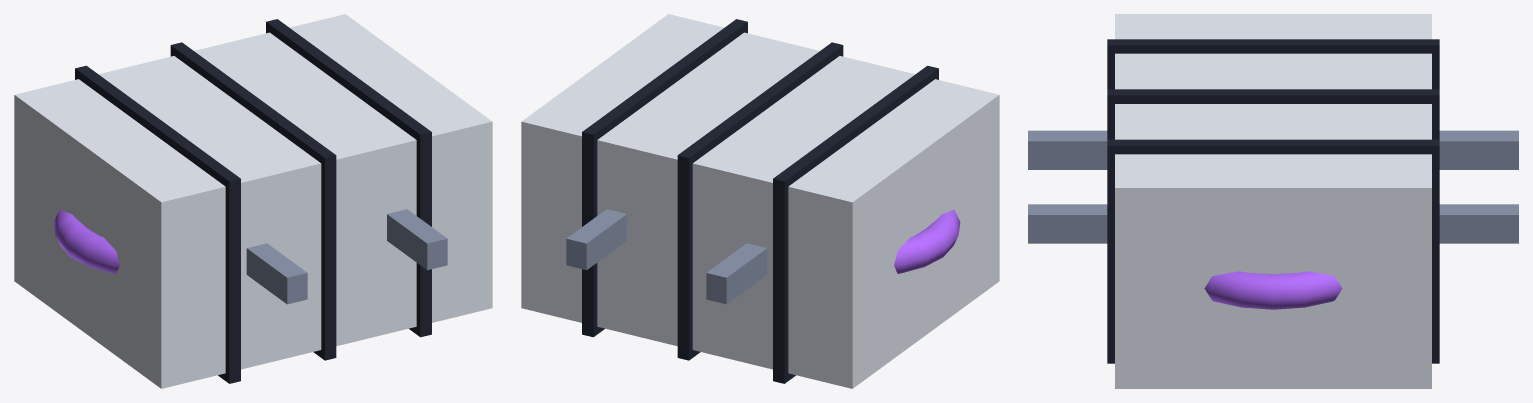
Rendered from runabout-refits.glb.
3 renders of one model, left to right at view 1: azimuth 30°, elevation 25°; view 2: azimuth 150°, elevation 25°; view 3: azimuth 270°, elevation 25°, orthographic. The views are drawn at different scales.
Visible parts, largest first — view 1: cargo-shell, cargo-rib-0, cargo-rib--0.75, cargo-rib-0.75, cradle-rail-a, cradle-rail-b, emitter--1; view 2: cargo-shell, cargo-rib-0, cargo-rib--0.75, cargo-rib-0.75, cradle-rail-a, cradle-rail-b, emitter--1; view 3: cargo-shell, cargo-rib-0.75, cradle-rail-b, cradle-rail-a, cargo-rib--0.75, cargo-rib-0, emitter-1.
Boxes of the visible parts, x1,y1,x2,y2 form: cargo-shell: (14, 14, 492, 388); cargo-rib-0: (170, 42, 336, 360); cargo-rib--0.75: (75, 65, 240, 383); cargo-rib-0.75: (266, 19, 431, 337); cradle-rail-a: (246, 243, 307, 304); cradle-rail-b: (387, 209, 447, 270); emitter--1: (53, 209, 119, 273); cargo-shell: (521, 14, 999, 388); cargo-rib-0: (677, 42, 843, 360); cargo-rib--0.75: (773, 65, 938, 383); cargo-rib-0.75: (582, 19, 747, 337); cradle-rail-a: (706, 243, 767, 304); cradle-rail-b: (566, 209, 626, 270); emitter--1: (894, 209, 960, 273); cargo-shell: (1115, 14, 1431, 388); cargo-rib-0.75: (1107, 139, 1439, 363); cradle-rail-b: (1028, 204, 1518, 243); cradle-rail-a: (1028, 130, 1518, 169); cargo-rib--0.75: (1107, 39, 1439, 89); cargo-rib-0: (1107, 89, 1439, 139); emitter-1: (1204, 271, 1342, 309).
Bounding box in the file's own units: 2.94 × 1.52 × 3.1.
